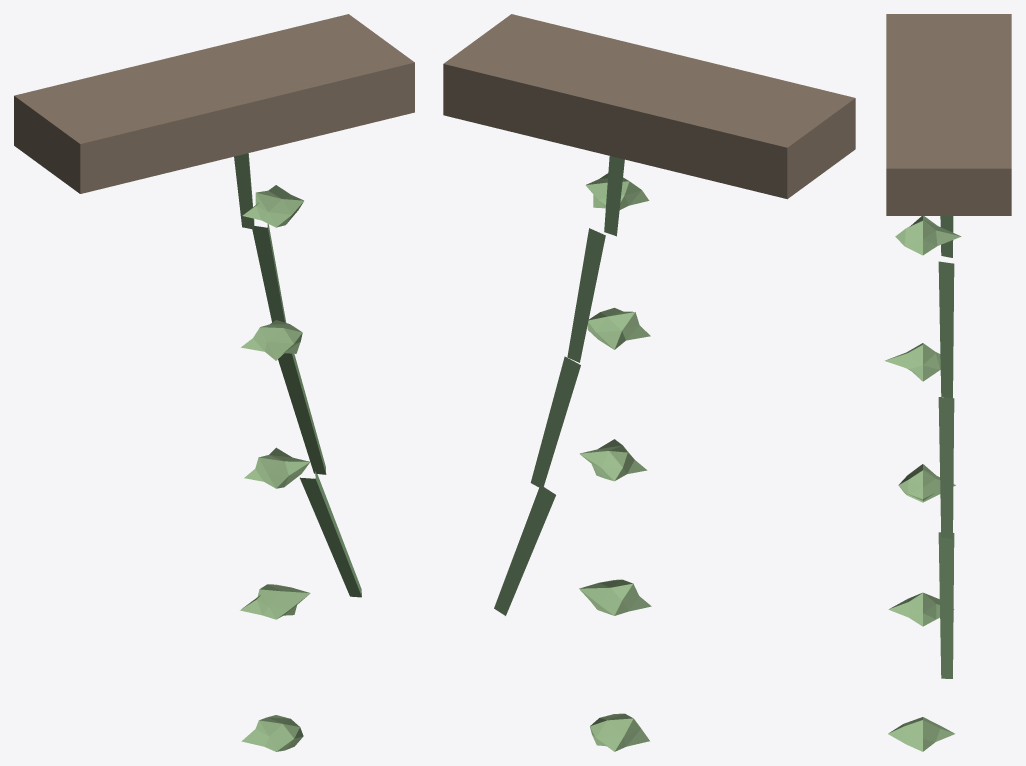
The model's file is vine_v11.glb.
3 renders of one model, left to right at view 1: azimuth 30°, elevation 25°; view 2: azimuth 150°, elevation 25°; view 3: azimuth 270°, elevation 25°, orthographic. The views are drawn at different scales.
Visible parts, largest first — view 1: lod0; view 2: lod0; view 3: lod0.
Part boxes in pixels (x1,y1,x2,y2): lod0: [14, 14, 414, 751]; lod0: [443, 14, 855, 751]; lod0: [884, 14, 1011, 751].
Size of what is drawn, in the model's own units: 0.7 by 1.35 by 0.2441.
